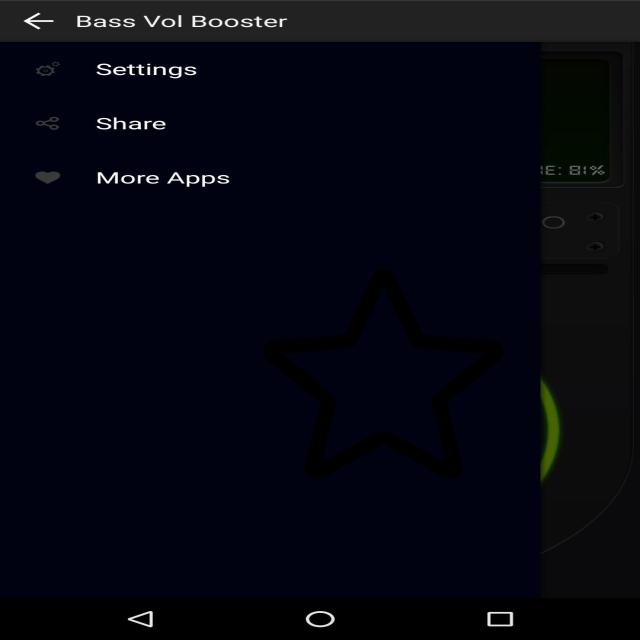forced continuity: (264, 264, 504, 483)
